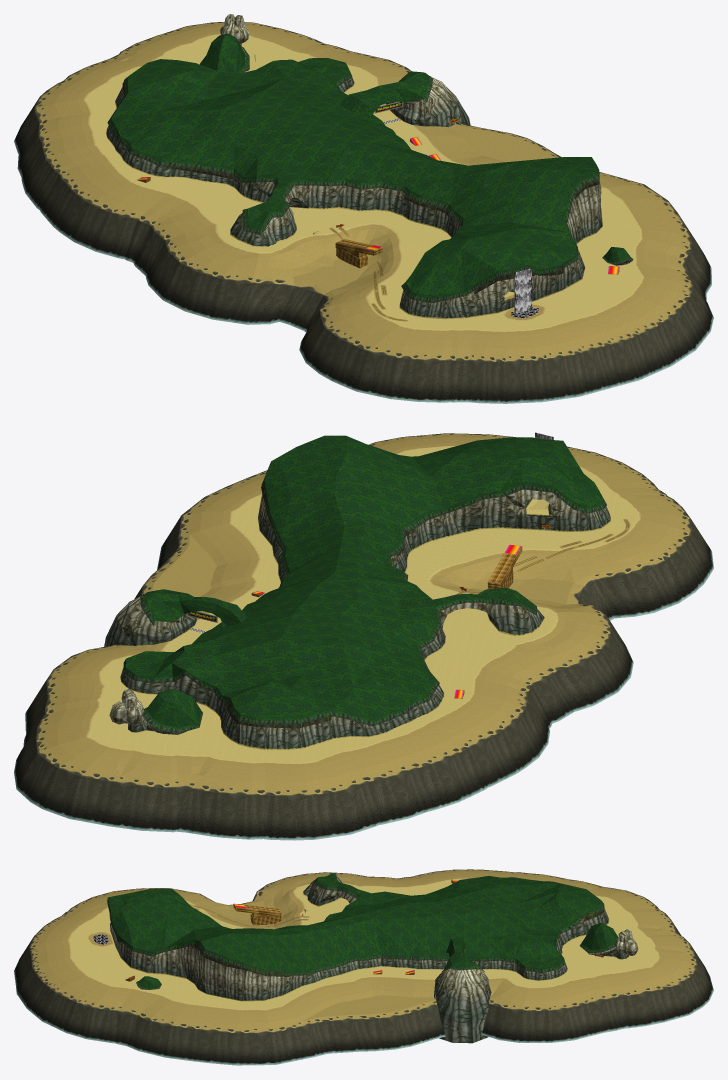
3 views of the same model, one above another, from view 1: azimuth 30°, elevation 25°; view 2: azimuth 150°, elevation 25°; view 3: azimuth 270°, elevation 25° (orthographic). The views are drawn at different scales.
Visible parts, largest first — view 1: koopa_troopa_beach_model-SKP--cliff, koopa_troopa_beach_model-SKP--grass, koopa_troopa_beach_model-SKP--sandunderwater, koopa_troopa_beach_model-SKP--sandroad, koopa_troopa_beach_model-SKP--sanddivider, koopa_troopa_beach_model-SKP--scene, koopa_troopa_beach_model-SKP--n64deck, koopa_troopa_beach_model-SKP--zaa; view 2: koopa_troopa_beach_model-SKP--cliff, koopa_troopa_beach_model-SKP--grass, koopa_troopa_beach_model-SKP--sandunderwater, koopa_troopa_beach_model-SKP--sandroad, koopa_troopa_beach_model-SKP--sanddivider, koopa_troopa_beach_model-SKP--scene, koopa_troopa_beach_model-SKP--tracks, koopa_troopa_beach_model-SKP--n64deck; view 3: koopa_troopa_beach_model-SKP--cliff, koopa_troopa_beach_model-SKP--grass, koopa_troopa_beach_model-SKP--sandunderwater, koopa_troopa_beach_model-SKP--sandroad, koopa_troopa_beach_model-SKP--sanddivider, koopa_troopa_beach_model-SKP--scene, koopa_troopa_beach_model-SKP--n64deck.
Boxes of the visible parts, x1,y1,x2,y2 form: koopa_troopa_beach_model-SKP--cliff: (14, 14, 713, 403); koopa_troopa_beach_model-SKP--grass: (111, 33, 630, 295); koopa_troopa_beach_model-SKP--sandunderwater: (44, 23, 683, 355); koopa_troopa_beach_model-SKP--sandroad: (85, 34, 641, 330); koopa_troopa_beach_model-SKP--sanddivider: (77, 31, 651, 335); koopa_troopa_beach_model-SKP--scene: (107, 40, 633, 319); koopa_troopa_beach_model-SKP--n64deck: (335, 239, 382, 268); koopa_troopa_beach_model-SKP--zaa: (514, 268, 531, 313); koopa_troopa_beach_model-SKP--cliff: (14, 433, 713, 840); koopa_troopa_beach_model-SKP--grass: (125, 435, 603, 727); koopa_troopa_beach_model-SKP--sandunderwater: (47, 435, 681, 789); koopa_troopa_beach_model-SKP--sandroad: (88, 446, 638, 762); koopa_troopa_beach_model-SKP--sanddivider: (80, 443, 647, 767); koopa_troopa_beach_model-SKP--scene: (100, 464, 606, 749); koopa_troopa_beach_model-SKP--tracks: (456, 519, 630, 594); koopa_troopa_beach_model-SKP--n64deck: (487, 544, 522, 589); koopa_troopa_beach_model-SKP--cliff: (14, 869, 713, 1065); koopa_troopa_beach_model-SKP--grass: (108, 873, 618, 988); koopa_troopa_beach_model-SKP--sandunderwater: (37, 870, 689, 1028); koopa_troopa_beach_model-SKP--sandroad: (69, 879, 658, 1009); koopa_troopa_beach_model-SKP--sanddivider: (62, 876, 664, 1012); koopa_troopa_beach_model-SKP--scene: (107, 872, 651, 989); koopa_troopa_beach_model-SKP--n64deck: (233, 904, 281, 925).
Size of what is drawn, in the model's own units: 63936 by 13755 by 106480.
Materials: 15 (15 with a texture image).
